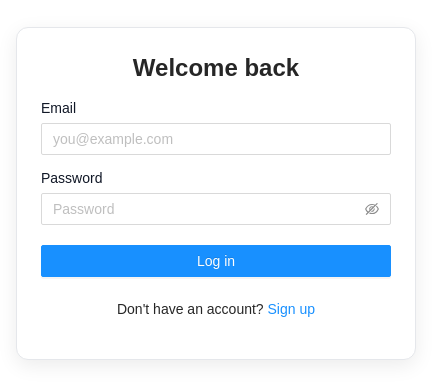
test Login component › test show validation error on wrong email and disabled button
Type "test" into the field with placeholder "you@example.com" at coordinates (216, 138), box [41,122,391,154]
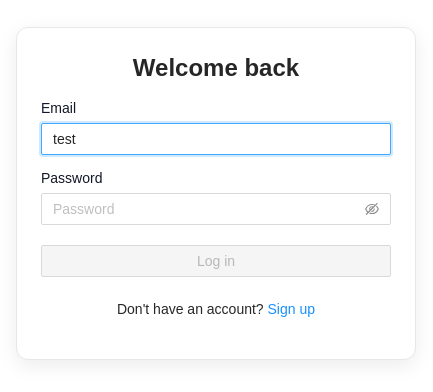
Click the password field with placeholder "Password" at coordinates (207, 208), box [53,198,361,220]
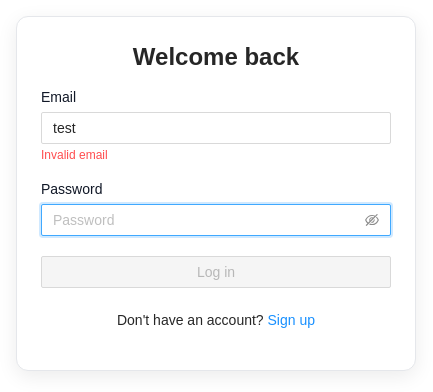
Result: the button "Log in" is disabled at [41,256,391,288]
Result: the text "Invalid email" is shown at [41,148,108,162]
